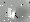person: (12, 9, 17, 20), (6, 9, 11, 19)
